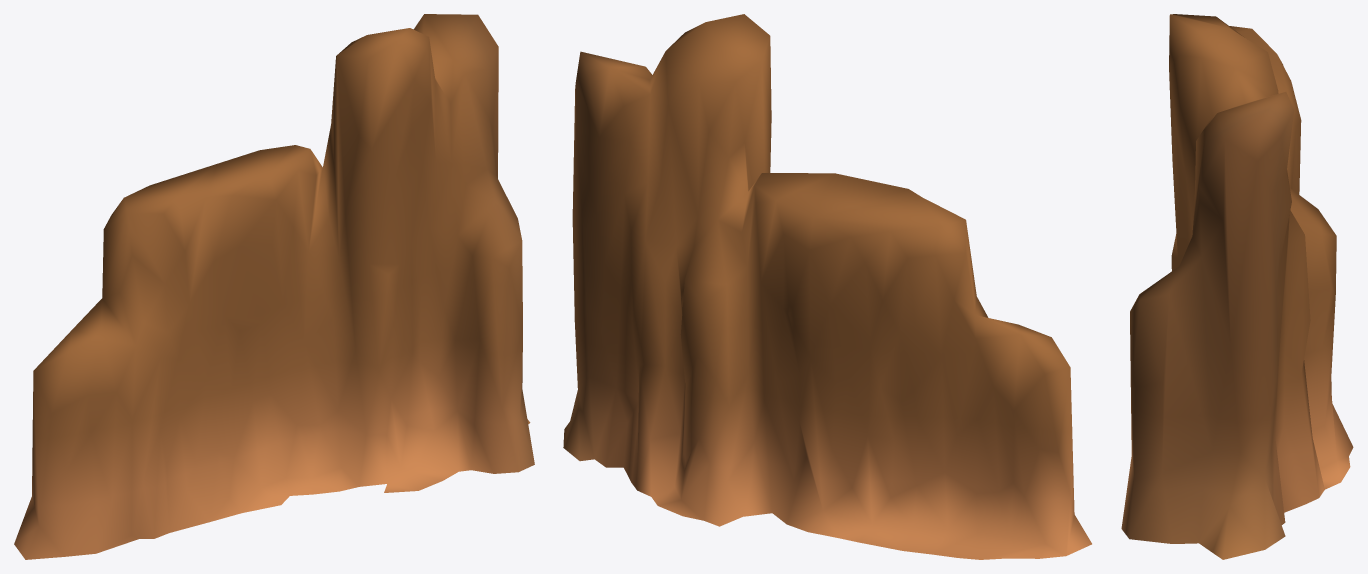
Rendered from Mountain 3.glb.
3 views of the same model, side by side, from view 1: azimuth 30°, elevation 25°; view 2: azimuth 150°, elevation 25°; view 3: azimuth 270°, elevation 25° (orthographic). The views are drawn at different scales.
Parts seen in each view (by area): view 1: Mountain3; view 2: Mountain3; view 3: Mountain3.
Part boxes in pixels (<box>): Mountain3: <box>14,14,534,559</box>; Mountain3: <box>563,14,1091,559</box>; Mountain3: <box>1121,14,1353,559</box>.
Size of what is drawn, in the model's own units: 16.73 by 13.52 by 6.12.
1 material, 1 textured.
